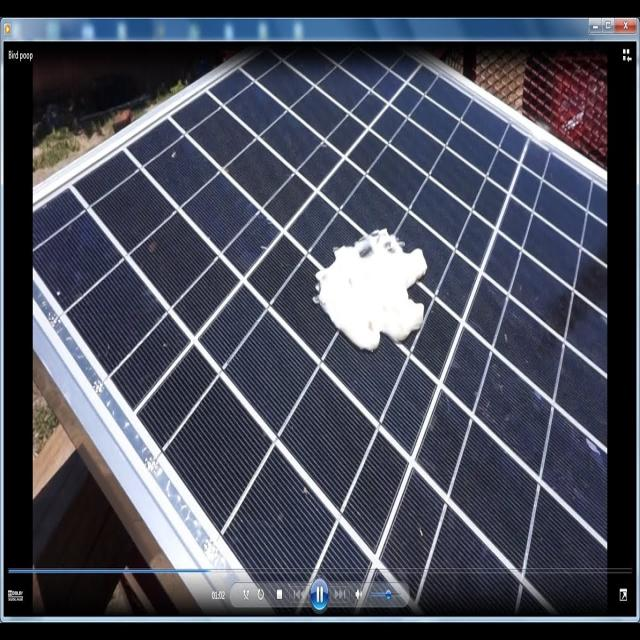dust-solar-panel: (0, 85, 618, 595)
